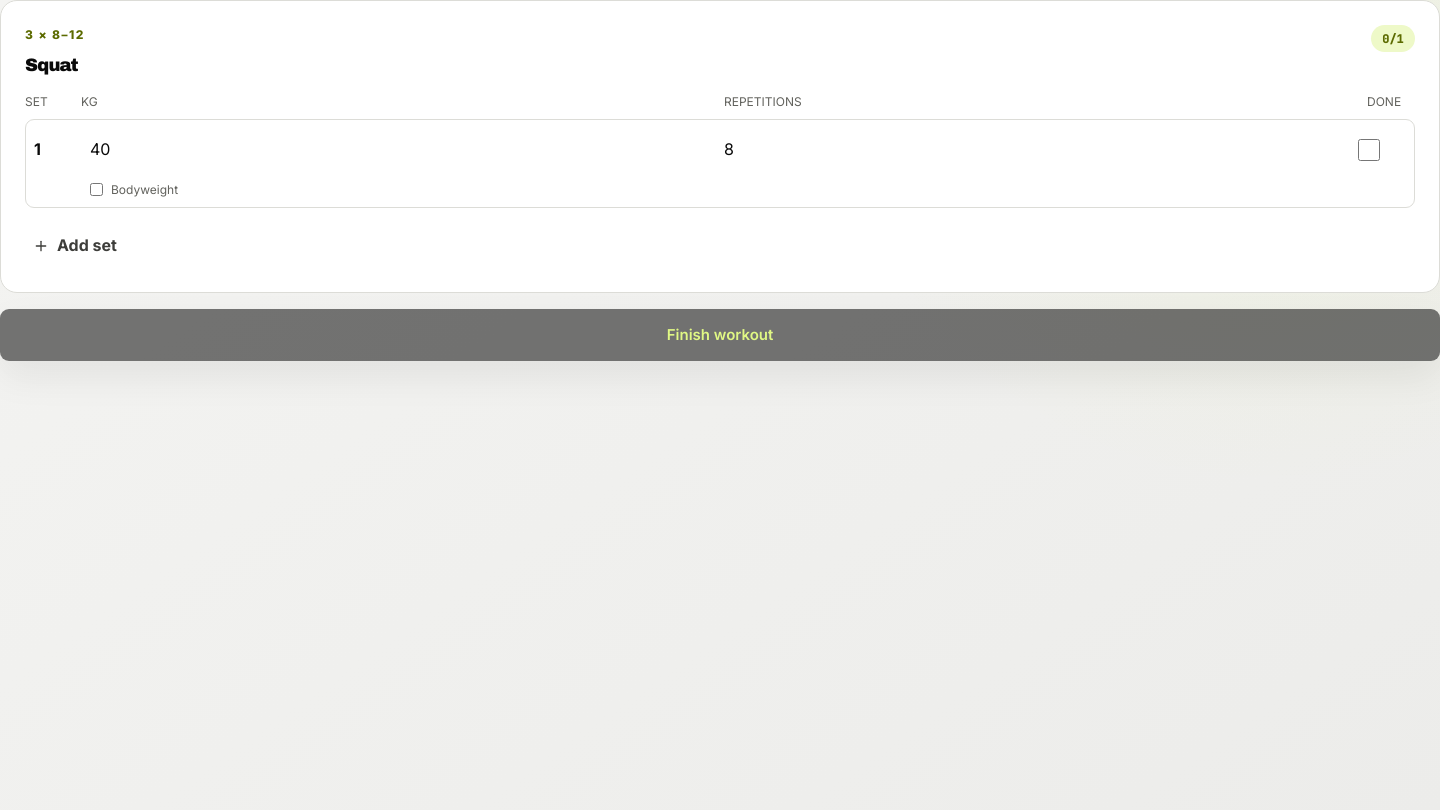
Test case: SessionLogger › supports completion, bodyweight mode, previous values, and adding sets
Expected: the button "Finish workout" is disabled, top-left (0, 309), bottom-right (1439, 361)
Click the checkbox named "Set complete".
click(1369, 150)  # box top-left (1358, 128), bottom-right (1380, 172)
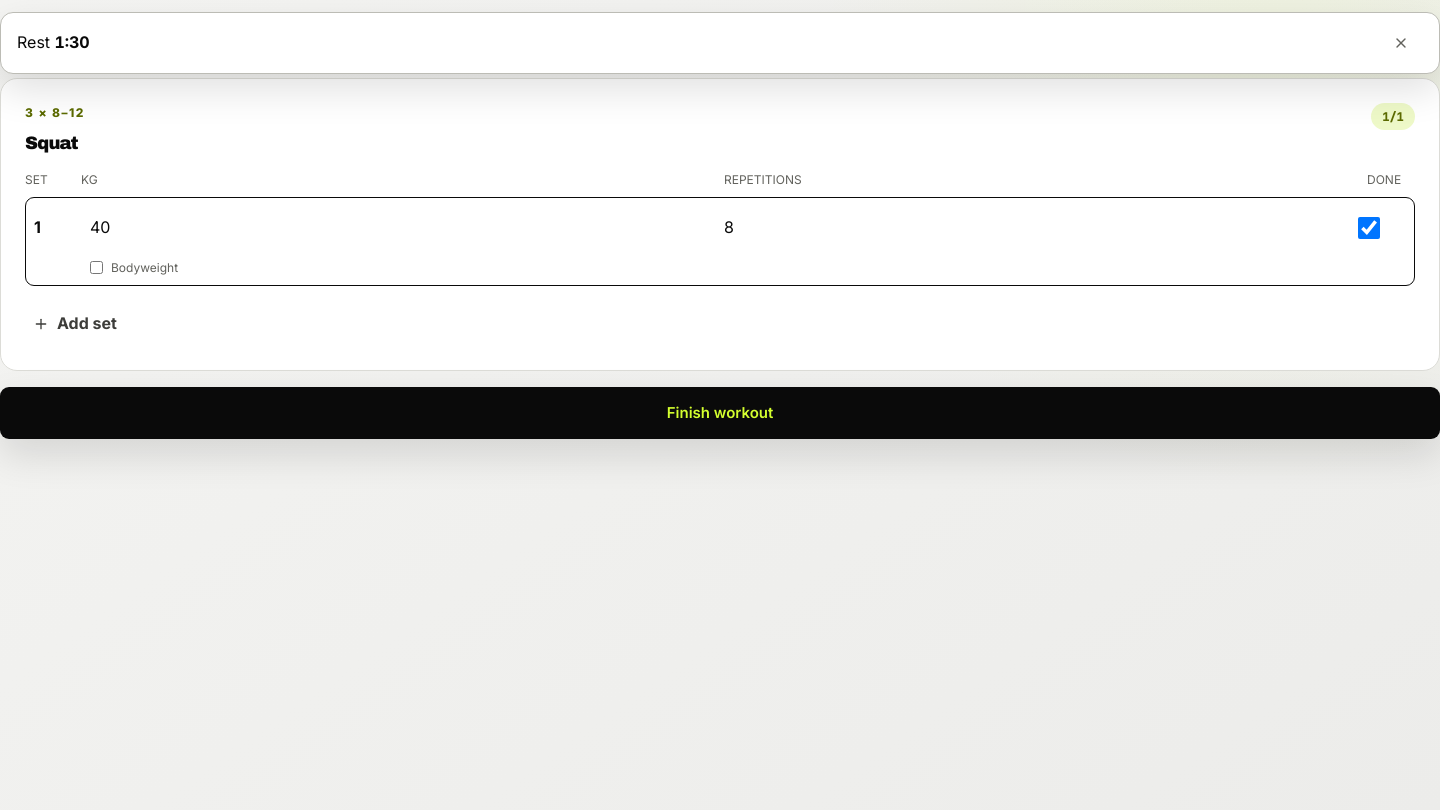
Result: the button "Finish workout" is enabled at top-left (0, 387), bottom-right (1439, 439)
Click the button "Add set".
click(87, 323)  # box top-left (25, 302), bottom-right (1415, 346)
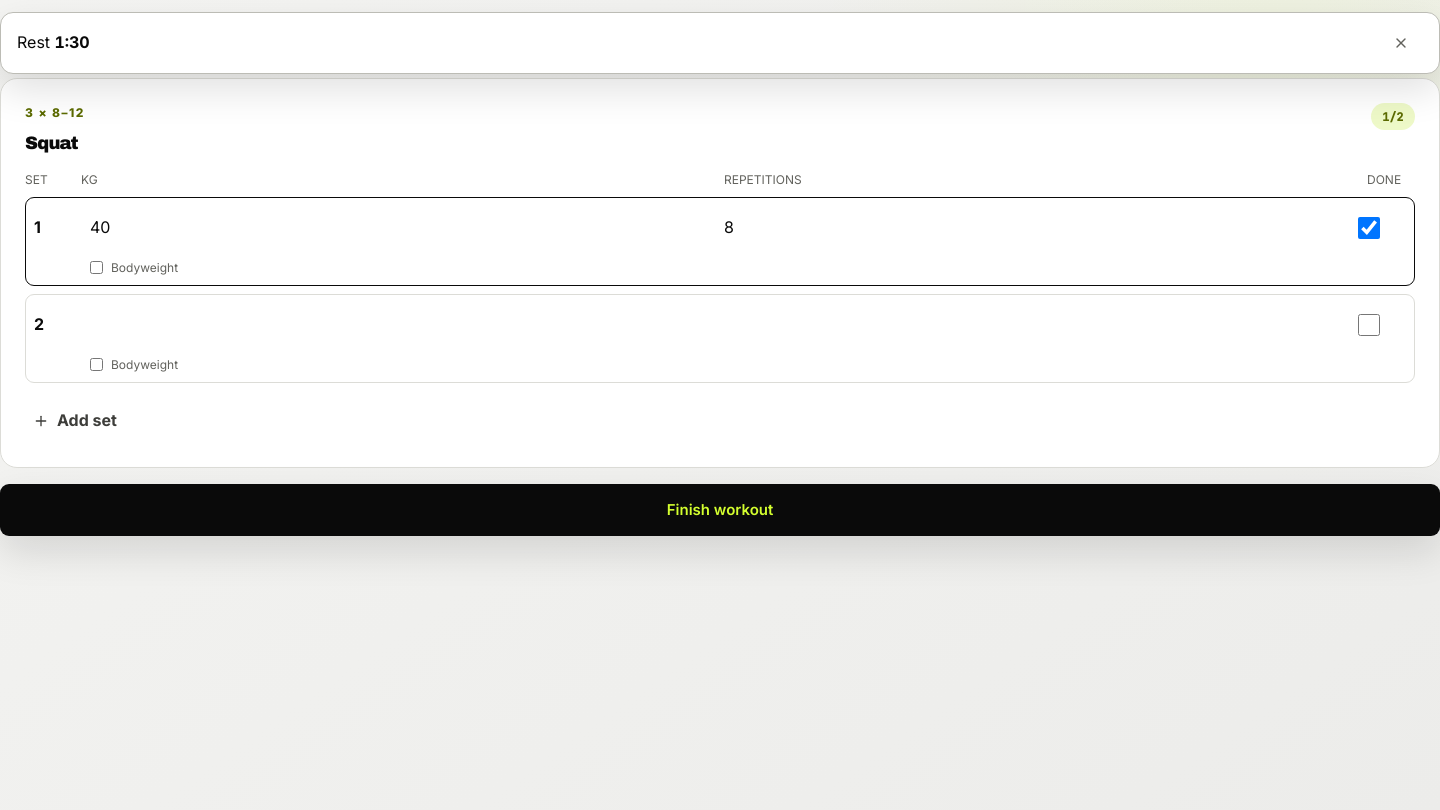
Click the 1st checkbox labelled "Bodyweight".
click(96, 267)  # box top-left (90, 261), bottom-right (103, 274)
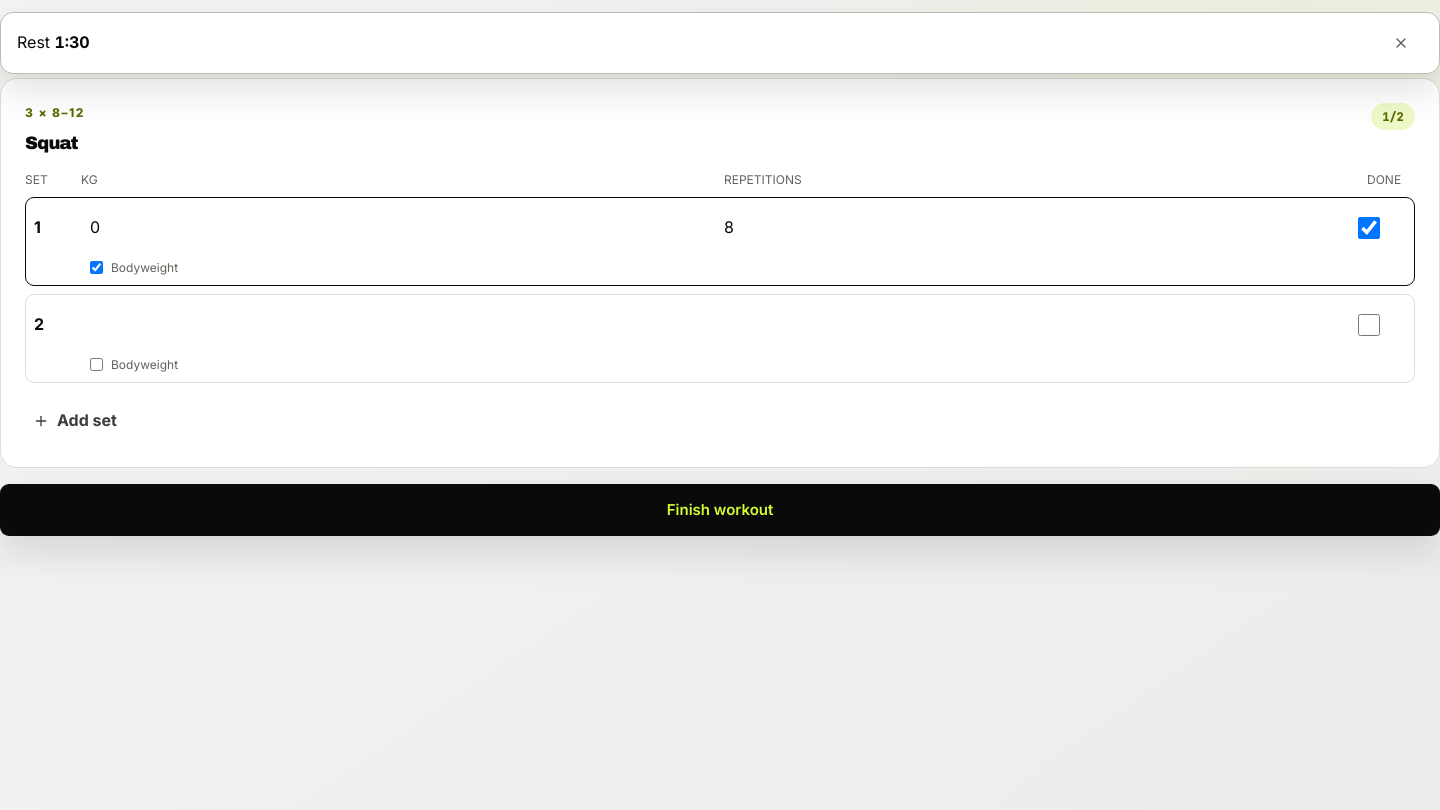
Result: the 1st number field named "Load in kilograms" is disabled at top-left (90, 206), bottom-right (716, 250)
